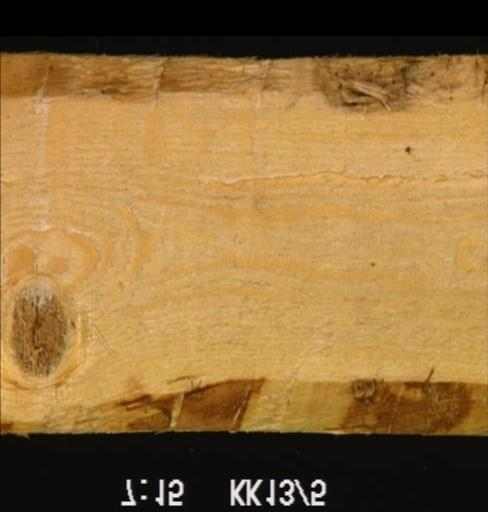small_knot: (400, 140, 412, 157)
sound_knot: (4, 283, 68, 379)
wave: (0, 55, 485, 113), (0, 380, 484, 433)
